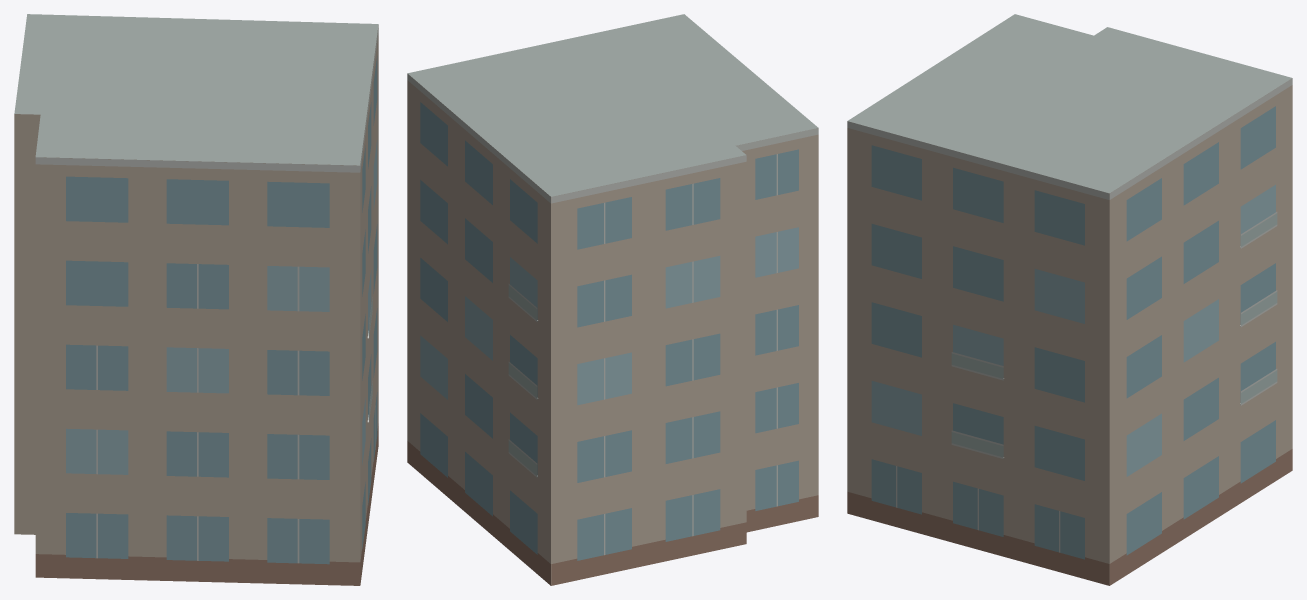
The model's file is survey-upis-32747423.glb.
3 renders of one model, left to right at view 1: azimuth 30°, elevation 25°; view 2: azimuth 150°, elevation 25°; view 3: azimuth 270°, elevation 25°, orthographic. The views are drawn at different scales.
Parts seen in each view (by area): view 1: survey-upis-32747423.tmp; view 2: survey-upis-32747423.tmp; view 3: survey-upis-32747423.tmp.
Part boxes in pixels (<box>): survey-upis-32747423.tmp: <box>14,14,378,585</box>; survey-upis-32747423.tmp: <box>407,14,818,585</box>; survey-upis-32747423.tmp: <box>847,14,1292,585</box>.
Bounding box in the file's own units: 13.98 × 14.25 × 14.67.
